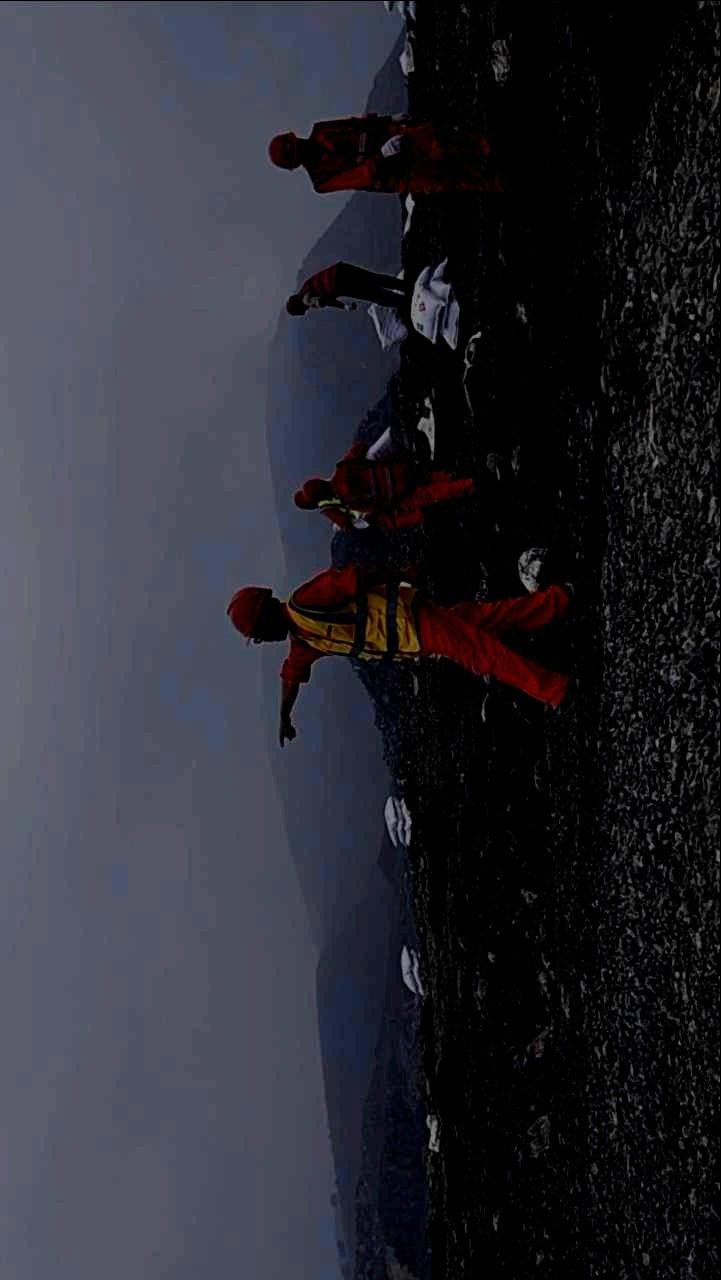helmet: (227, 584, 289, 646), (267, 130, 309, 172), (302, 478, 334, 503), (285, 294, 311, 317), (294, 489, 320, 511)
